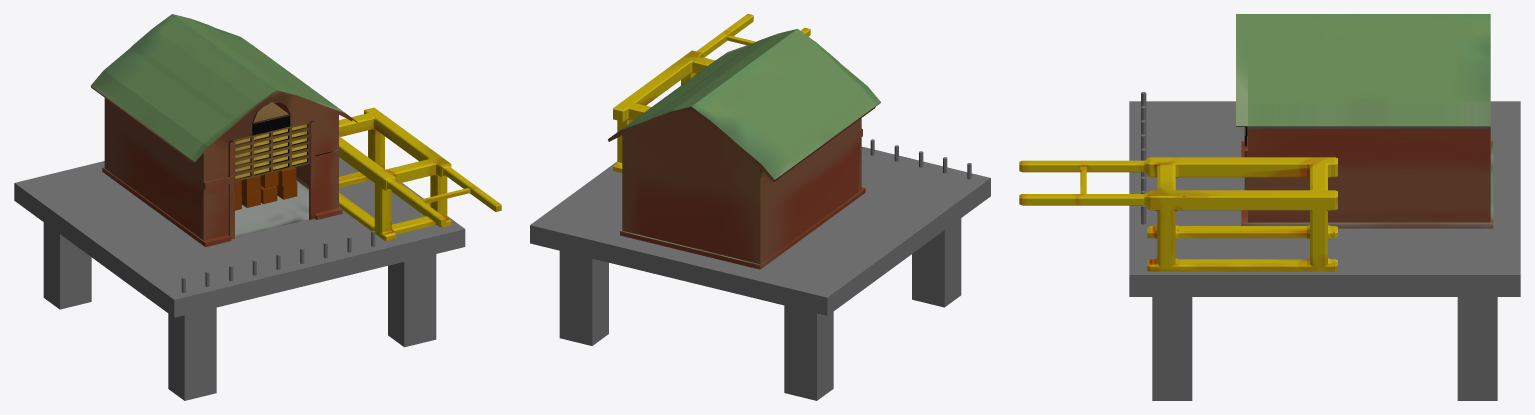
Rendered from warehouse.gltf.
3 renders of one model, left to right at view 1: azimuth 30°, elevation 25°; view 2: azimuth 150°, elevation 25°; view 3: azimuth 270°, elevation 25°, orthographic. The views are drawn at different scales.
Parts seen in each view (by area): view 1: Cube, Cube.001, Cube.002, Cylinder; view 2: Cube.001, Cube, Cube.002, Cylinder; view 3: Cube.001, Cube, Cube.002, Cylinder.
Boxes of the visible parts, x1,y1,x2,y2 form: Cube: [14, 157, 465, 400]; Cube.001: [91, 14, 357, 247]; Cube.002: [339, 107, 501, 240]; Cylinder: [181, 230, 375, 292]; Cube.001: [608, 29, 880, 269]; Cube: [530, 146, 990, 400]; Cube.002: [613, 14, 810, 172]; Cylinder: [870, 139, 971, 179]; Cube.001: [1236, 14, 1493, 228]; Cube: [1129, 101, 1520, 400]; Cube.002: [1019, 157, 1337, 271]; Cylinder: [1141, 92, 1146, 224].
Bounding box in the file's own units: 42 × 35.2 × 51.25.
4 materials, 2 textured.
